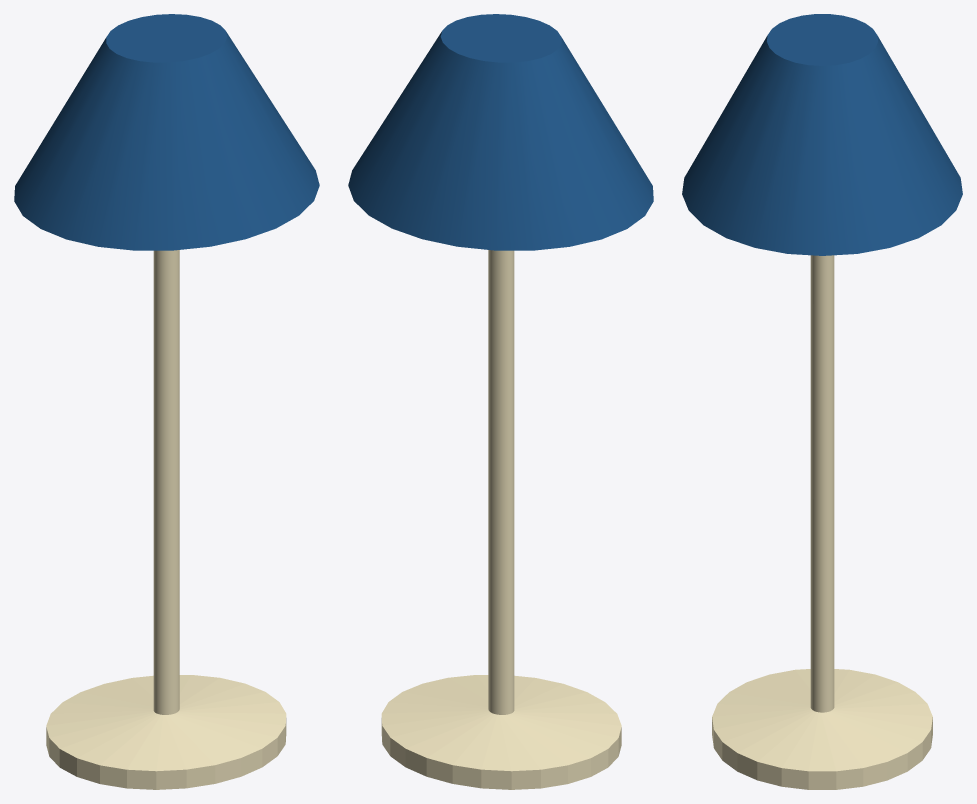
Rendered from lamp.FBX.
3 views of the same model, side by side, from view 1: azimuth 30°, elevation 25°; view 2: azimuth 150°, elevation 25°; view 3: azimuth 270°, elevation 25° (orthographic).
Parts seen in each view (by area): view 1: head, body; view 2: head, body; view 3: head, body.
Boxes of the visible parts, left/top/right/bottom form: head: left=14, top=14, right=319, bottom=250; body: left=46, top=250, right=286, bottom=789; head: left=348, top=14, right=653, bottom=250; body: left=381, top=250, right=621, bottom=789; head: left=682, top=14, right=962, bottom=255; body: left=712, top=255, right=932, bottom=789.
Bounding box in the file's own units: 265 × 657 × 240.
